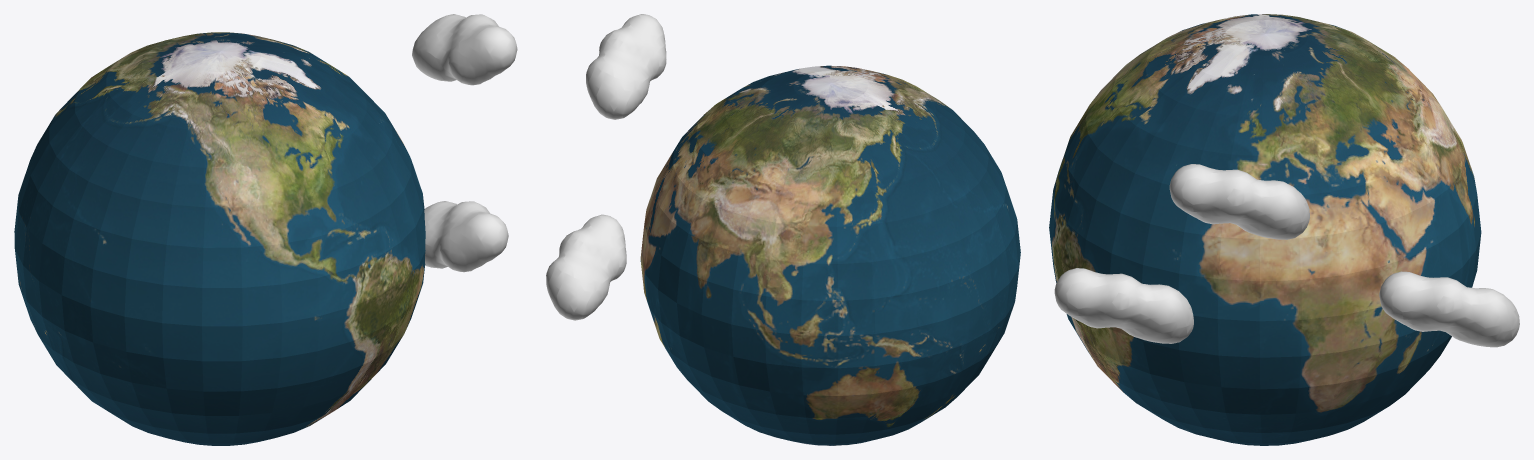
File: 3dtrial.glb
3 views of the same model, side by side, from view 1: azimuth 30°, elevation 25°; view 2: azimuth 150°, elevation 25°; view 3: azimuth 270°, elevation 25° (orthographic). The views are drawn at different scales.
Visible parts, largest first — view 1: Earth, Mball.006; view 2: Earth, Mball.006; view 3: Earth, Mball.006.
Part boxes in pixels (x1,y1,x2,y2): Earth: [14, 32, 425, 445]; Mball.006: [412, 14, 517, 272]; Earth: [640, 65, 1020, 445]; Mball.006: [546, 14, 666, 320]; Earth: [1049, 14, 1481, 445]; Mball.006: [1054, 164, 1519, 347].
Bounding box in the file's own units: 2.47 × 2 × 2.18.
1 material, 1 textured.
